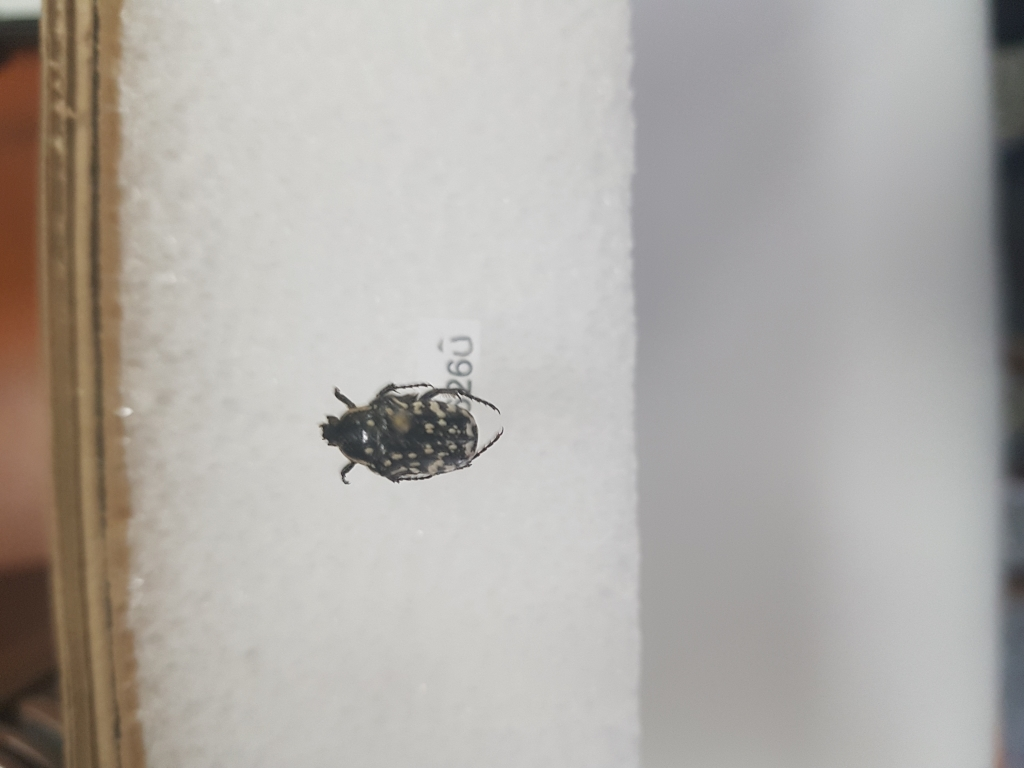Oxythyrea_funesta: (316, 378, 511, 492)
